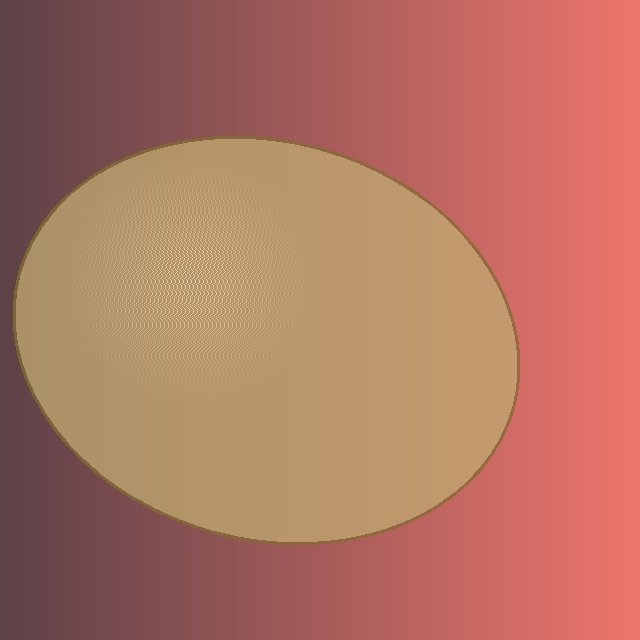lens: (14, 137, 518, 543)
